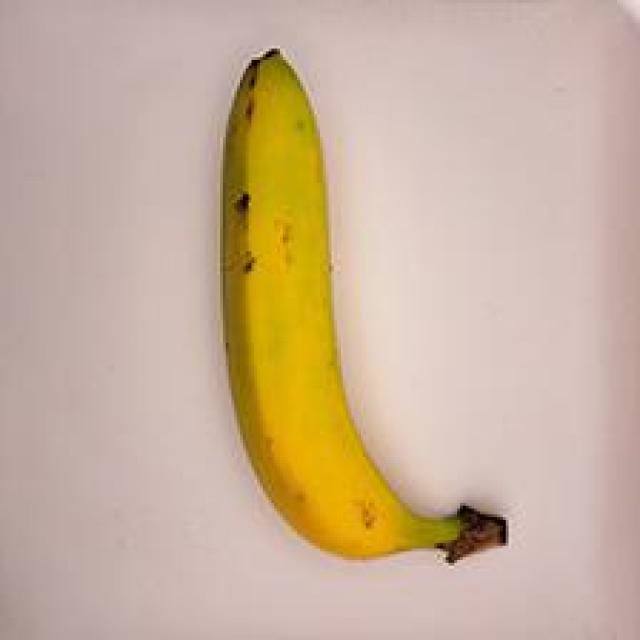unripe: (188, 38, 540, 581)
